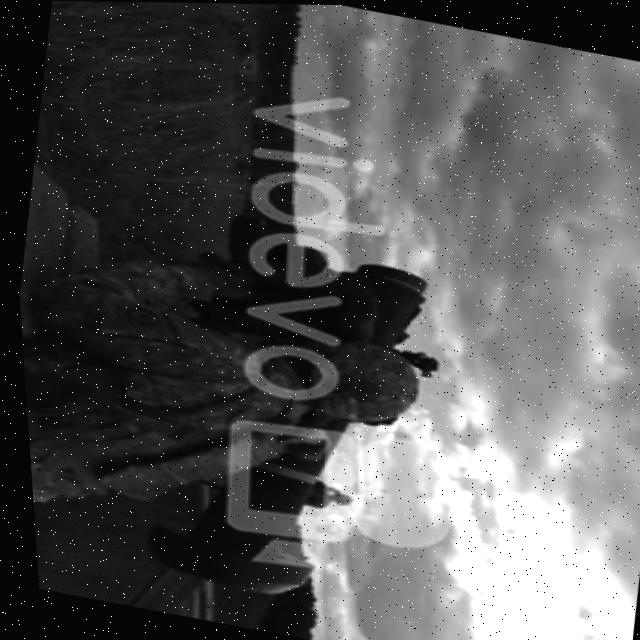rocket: (101, 219, 467, 624)
